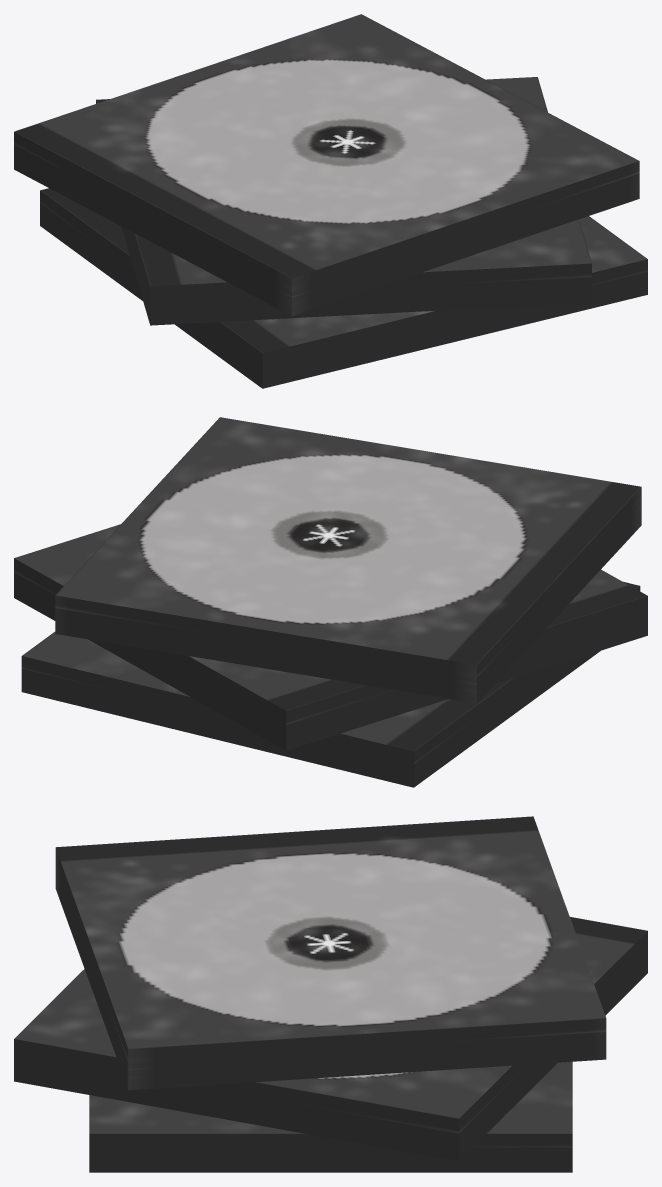
Rendered from Cassettes.glb.
3 renders of one model, top to bottom at view 1: azimuth 30°, elevation 25°; view 2: azimuth 150°, elevation 25°; view 3: azimuth 270°, elevation 25°, orthographic. The views are drawn at different scales.
Visible parts, largest first — view 1: Cassette.002, Cassette, Cassette.001; view 2: Cassette.002, Cassette.001, Cassette; view 3: Cassette.002, Cassette.001, Cassette.
Part boxes in pixels (bbox=[...]): Cassette.002: bbox=[14, 14, 639, 316]; Cassette: bbox=[40, 188, 647, 388]; Cassette.001: bbox=[96, 77, 591, 325]; Cassette.002: bbox=[55, 417, 641, 703]; Cassette.001: bbox=[14, 524, 647, 750]; Cassette: bbox=[21, 581, 640, 787]; Cassette.002: bbox=[55, 816, 606, 1090]; Cassette.001: bbox=[14, 917, 647, 1161]; Cassette: bbox=[89, 1061, 572, 1172].
Bounding box in the file's own units: 2.62 × 0.5864 × 2.62.
Materials: 1 (1 with a texture image).
